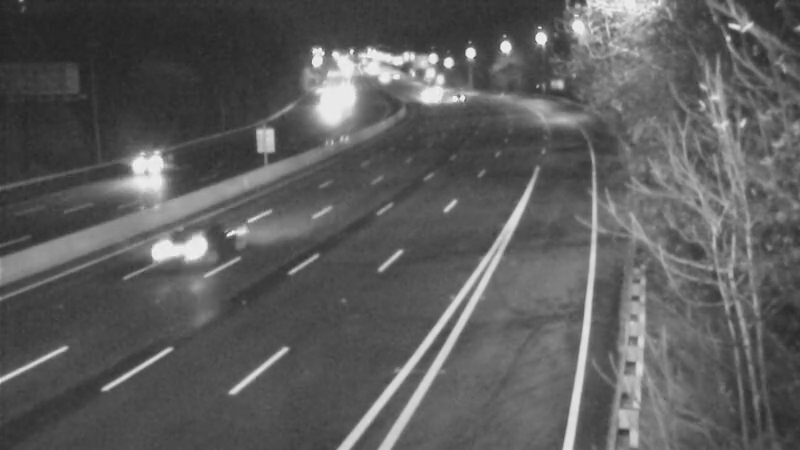vehicle: (142, 211, 222, 291), (114, 121, 194, 201), (399, 70, 449, 120), (425, 72, 475, 122)
